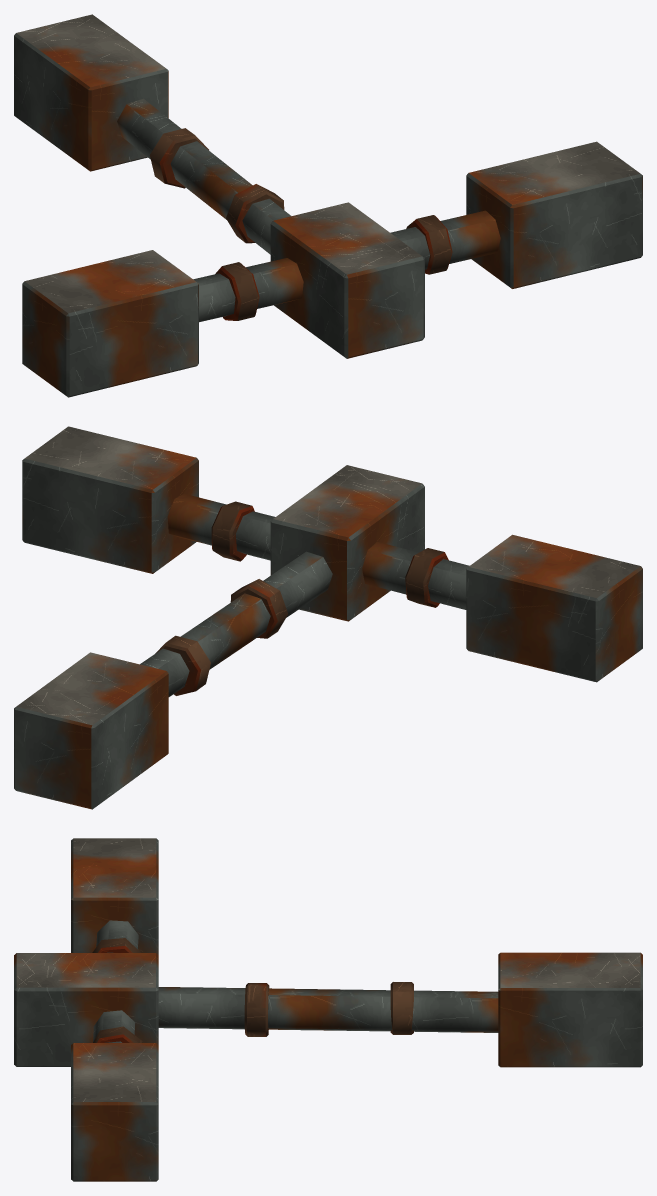
The model's file is R4C_ROD_T_LOD1.glb.
The picture shows the model from 3 angles, top to bottom: view 1: azimuth 30°, elevation 25°; view 2: azimuth 150°, elevation 25°; view 3: azimuth 270°, elevation 25°; orthographic projection. The views are drawn at different scales.
Visible parts, largest first — view 1: R4C_ROD_T_LOD1; view 2: R4C_ROD_T_LOD1; view 3: R4C_ROD_T_LOD1.
Part boxes in pixels (<box>): R4C_ROD_T_LOD1: <box>14,14,642,397</box>; R4C_ROD_T_LOD1: <box>14,426,642,809</box>; R4C_ROD_T_LOD1: <box>14,838,642,1181</box>.
Bounding box in the file's own units: 1.62 × 0.226 × 1.62.
3 materials, 3 textured.
